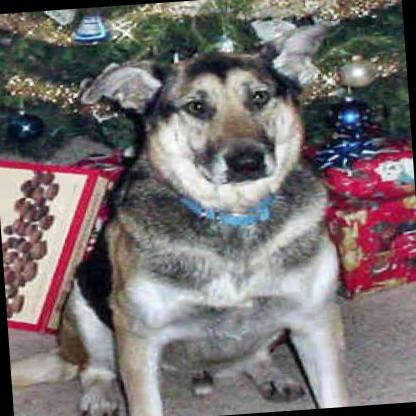German_shepherd: (0, 21, 376, 416)
